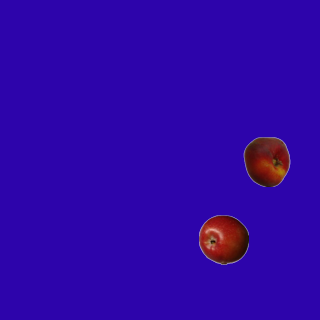Apple Braeburn: (198, 214, 248, 264)
Nectarine Flat: (241, 136, 291, 186)
